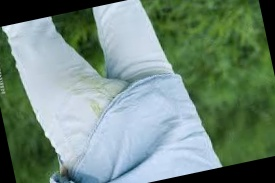earth: (85, 75, 108, 95), (91, 101, 100, 119)
